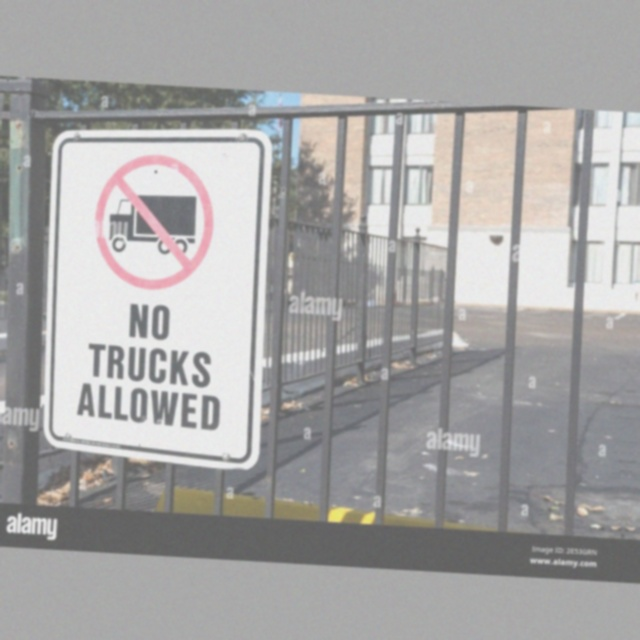Truck_Prohibited: (82, 140, 224, 304)
